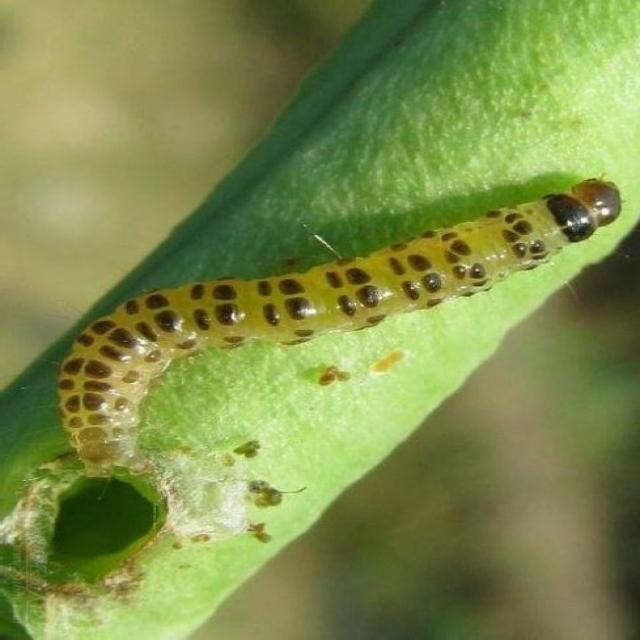peach borer: (59, 175, 629, 483)
